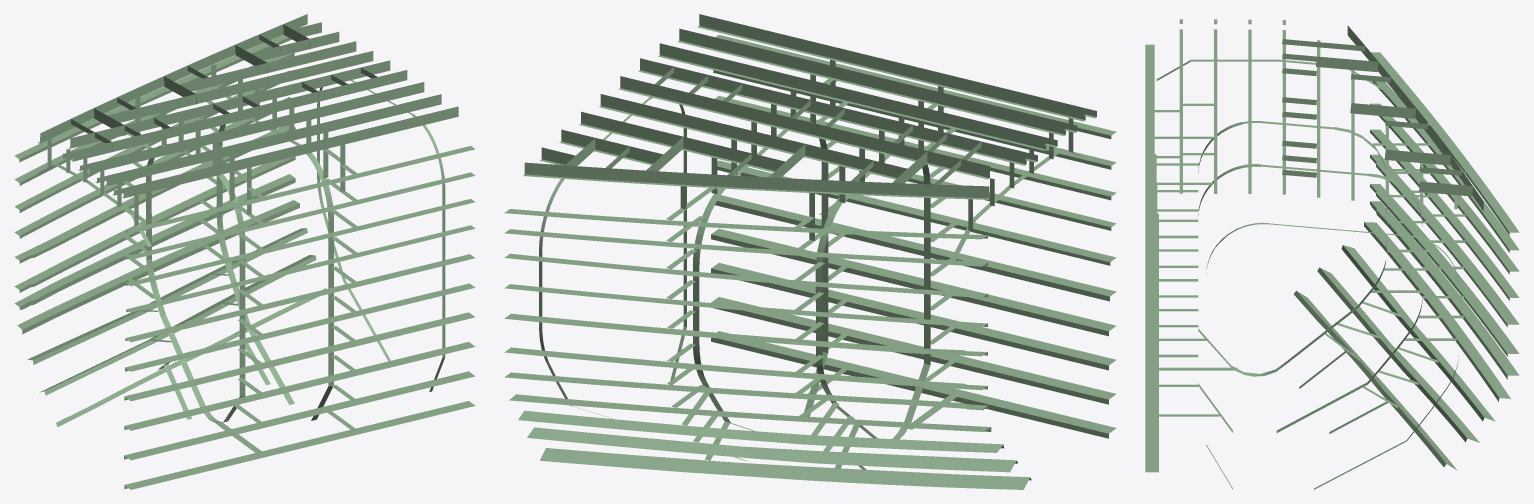
Rendered from FRESH_WATER_TK_PS.glb.
3 views of the same model, side by side, from view 1: azimuth 30°, elevation 25°; view 2: azimuth 150°, elevation 25°; view 3: azimuth 270°, elevation 25° (orthographic). The views are drawn at different scales.
Visible parts, largest first — view 1: ST_UDxEPRPxDL17xWeb_002002-IA_300x90x11x16_NVA_1993, ST_UDxEPRPxDL15xWeb_002002-IA_300x90x11x16_NVA_1993, ST_UDxEPRPxDL16xWeb_002002-IA_300x90x11x16_NVA_1993, ST_UDxEPRPxDL19xWeb_003002-IA_300x90x11x16_NVA_1993, ST_UDxEPRPxDL14xWeb_002002-IA_300x90x11x16_NVA_1993, ST_UDxEPRPxDL20xWeb_002002-IA_300x90x11x16_NVA_1993, ST_UDxEPRPxDL18xWeb_002002-IA_300x90x11x16_NVA_1993, ST_UDxEPRPxDL15xWeb_002004-IA_300x90x11x16_NVA_1993, ST_UDxEPRPxDL14xWeb_002004-IA_300x90x11x16_NVA_1993, ST_UDxEPRPxDL16xWeb_002004-IA_300x90x11x16_NVA_1993, ST_UDxEPRPxDL17xWeb_002004-IA_300x90x11x16_NVA_1993, ST_UDxEPRPxDL30xWeb_002002-IA_300x90x11x16_NVA_1993 (+47 smaller); view 2: ST_OuterShellxEPRPxL53xWeb_001002-IA_361x125x10x16_NVA32_199, ST_UDxEPRPxDL30xWeb_002002-IA_300x90x11x16_NVA_1993, ST_OuterShellxEPRPxL53xWeb_001004-IA_361x125x10x16_NVA32_199, ST_OuterShellxEPRPxL54xWeb_002002-IA_359.5x125x10x14.5_NVA32, ST_UDxEPRPxDL15xWeb_002002-IA_300x90x11x16_NVA_1993, ST_UDxEPRPxDL18xWeb_002002-IA_300x90x11x16_NVA_1993, ST_UDxEPRPxDL16xWeb_002002-IA_300x90x11x16_NVA_1993, ST_UDxEPRPxDL14xWeb_002002-IA_300x90x11x16_NVA_1993, ST_UDxEPRPxDL19xWeb_003002-IA_300x90x11x16_NVA_1993, ST_OuterShellxEPRPxL54A1xWeb_003002-IA_314.5x125x10x14.5_NVA, ST_UDxEPRPxDL30xWeb_002004-IA_300x90x11x16_NVA_1993, ST_OuterShellxEPRPxL54xWeb_001001-IA_359.5x125x10x14.5_NVA32 (+55 smaller); view 3: ST_OuterShellxEPRPxL56xWeb_003002-IA_312.5x125x10x12.5_NVA3, ST_OuterShellxEPRPxL55xWeb_002002-IA_314x125x10x14_NVA32_199, ST_OuterShellxEPRPxL57xWeb_002002-IA_316x90x11x16_NVA32_199, ST_OuterShellxEPRPxL58xWeb_002002-IA_316x90x11x16_NVA32_199, ST_OuterShellxEPRPxL60A2xWeb_002002-IA_265x90x10x15_NVA32_1, ST_OuterShellxEPRPxL59xWeb_002002-IA_265x90x10x15_NVA32_199, ST_OuterShellxEPRPxL55xWeb_002004-IA_314x125x10x14_NVA32_199, ST_LBHDxEPRPxL62xWeb_001004-IA_250x90x10x15_NVA_1993, ST_OuterShellxEPRPxL60xWeb_003002-IA_265x90x10x15_NVA32_199, ST_OuterShellxEPRPxL54xWeb_002002-IA_359.5x125x10x14.5_NVA32, ST_OuterShellxEPRPxL56xWeb_003004-IA_312.5x125x10x12.5_NVA32, ST_OuterShellxEPRPxL60A2xWeb_002004-IA_265x90x10x15_NVA32_19 (+30 smaller).
Part boxes in pixels (x1,y1,x2,y2): ST_UDxEPRPxDL17xWeb_002002-IA_300x90x11x16_NVA_1993: [218, 70, 407, 125]; ST_UDxEPRPxDL15xWeb_002002-IA_300x90x11x16_NVA_1993: [252, 94, 441, 150]; ST_UDxEPRPxDL16xWeb_002002-IA_300x90x11x16_NVA_1993: [235, 82, 424, 137]; ST_UDxEPRPxDL19xWeb_003002-IA_300x90x11x16_NVA_1993: [184, 51, 373, 106]; ST_UDxEPRPxDL14xWeb_002002-IA_300x90x11x16_NVA_1993: [270, 106, 458, 162]; ST_UDxEPRPxDL20xWeb_002002-IA_300x90x11x16_NVA_1993: [179, 41, 356, 91]; ST_UDxEPRPxDL18xWeb_002002-IA_300x90x11x16_NVA_1993: [201, 60, 390, 116]; ST_UDxEPRPxDL15xWeb_002004-IA_300x90x11x16_NVA_1993: [106, 140, 252, 185]; ST_UDxEPRPxDL14xWeb_002004-IA_300x90x11x16_NVA_1993: [123, 152, 269, 198]; ST_UDxEPRPxDL16xWeb_002004-IA_300x90x11x16_NVA_1993: [89, 128, 235, 173]; ST_UDxEPRPxDL17xWeb_002004-IA_300x90x11x16_NVA_1993: [72, 116, 218, 161]; ST_UDxEPRPxDL30xWeb_002002-IA_300x90x11x16_NVA_1993: [154, 14, 307, 89]; ST_OuterShellxEPRPxL53xWeb_001002-IA_361x125x10x16_NVA32_199: [540, 448, 808, 479]; ST_UDxEPRPxDL30xWeb_002002-IA_300x90x11x16_NVA_1993: [524, 162, 784, 189]; ST_OuterShellxEPRPxL53xWeb_001004-IA_361x125x10x16_NVA32_199: [803, 466, 1029, 489]; ST_OuterShellxEPRPxL54xWeb_002002-IA_359.5x125x10x14.5_NVA32: [527, 427, 796, 461]; ST_UDxEPRPxDL15xWeb_002002-IA_300x90x11x16_NVA_1993: [679, 28, 897, 93]; ST_UDxEPRPxDL18xWeb_002002-IA_300x90x11x16_NVA_1993: [620, 76, 838, 140]; ST_UDxEPRPxDL16xWeb_002002-IA_300x90x11x16_NVA_1993: [659, 43, 877, 108]; ST_UDxEPRPxDL14xWeb_002002-IA_300x90x11x16_NVA_1993: [699, 14, 916, 78]; ST_UDxEPRPxDL19xWeb_003002-IA_300x90x11x16_NVA_1993: [600, 94, 818, 158]; ST_OuterShellxEPRPxL54A1xWeb_003002-IA_314.5x125x10x14.5_NVA: [518, 411, 785, 442]; ST_UDxEPRPxDL30xWeb_002004-IA_300x90x11x16_NVA_1993: [784, 178, 989, 198]; ST_OuterShellxEPRPxL54xWeb_001001-IA_359.5x125x10x14.5_NVA32: [816, 451, 1016, 472]; ST_OuterShellxEPRPxL56xWeb_003002-IA_312.5x125x10x12.5_NVA3: [1436, 279, 1519, 375]; ST_OuterShellxEPRPxL55xWeb_002002-IA_314x125x10x14_NVA32_199: [1430, 302, 1510, 398]; ST_OuterShellxEPRPxL57xWeb_002002-IA_316x90x11x16_NVA32_199: [1436, 261, 1519, 353]; ST_OuterShellxEPRPxL58xWeb_002002-IA_316x90x11x16_NVA32_199: [1436, 232, 1519, 324]; ST_OuterShellxEPRPxL60A2xWeb_002002-IA_265x90x10x15_NVA32_1: [1438, 134, 1519, 232]; ST_OuterShellxEPRPxL59xWeb_002002-IA_265x90x10x15_NVA32_199: [1438, 206, 1519, 297]; ST_OuterShellxEPRPxL55xWeb_002004-IA_314x125x10x14_NVA32_199: [1364, 222, 1440, 302]; ST_LBHDxEPRPxL62xWeb_001004-IA_250x90x10x15_NVA_1993: [1145, 121, 1154, 213]; ST_OuterShellxEPRPxL60xWeb_003002-IA_265x90x10x15_NVA32_199: [1438, 180, 1519, 271]; ST_OuterShellxEPRPxL54xWeb_002002-IA_359.5x125x10x14.5_NVA32: [1389, 348, 1479, 442]; ST_OuterShellxEPRPxL56xWeb_003004-IA_312.5x125x10x12.5_NVA32: [1376, 208, 1447, 279]; ST_OuterShellxEPRPxL60A2xWeb_002004-IA_265x90x10x15_NVA32_19: [1377, 60, 1447, 134].
Size of the model in its own units: 10.5 by 8.9 by 9.81.
